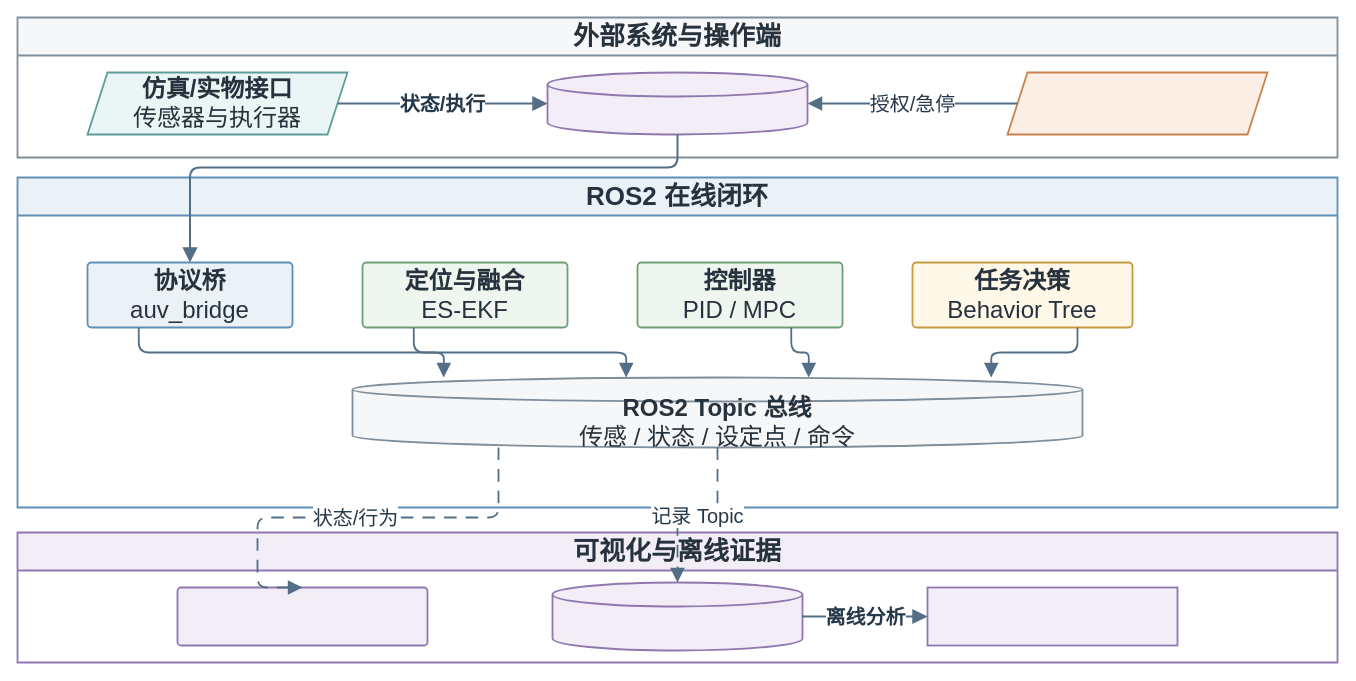
Some shapes in this 1356 by 681 pixel diagram are drawn without their labels. The centre of each missing label's shape, as x and y in pixels:
"可视化桥 Foxglove / Console" belongs at (x=302, y=616).
"实验黑匣子 rosbag / MCAP" belongs at (x=677, y=616).
"操作员控制台 遥控 / 授权 / 急停" belongs at (x=1137, y=103).
"离线分析 图表 / KPI" belongs at (x=1052, y=616).
"跨进程链路 UDP / Zenoh" belongs at (x=677, y=103).
